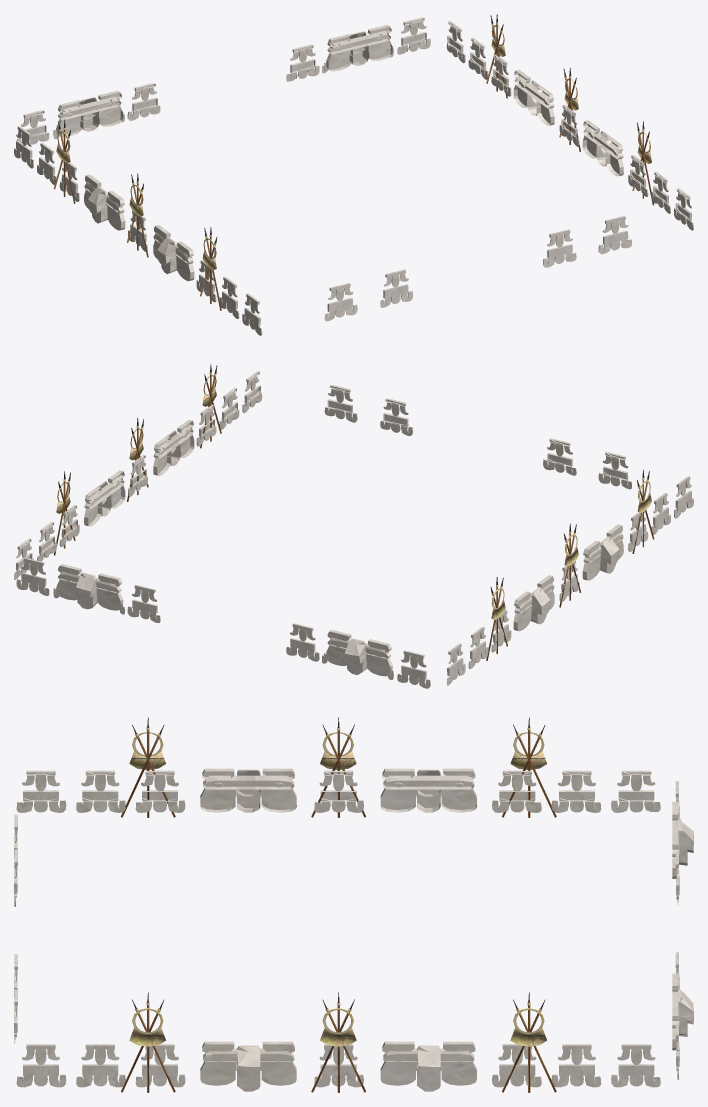
Rendered from ball_dec.dae.
3 renders of one model, top to bottom at view 1: azimuth 30°, elevation 25°; view 2: azimuth 150°, elevation 25°; view 3: azimuth 270°, elevation 25°, orthographic. The views are drawn at different scales.
Visible parts, largest first — view 1: ball_dec; view 2: ball_dec; view 3: ball_dec.
Part boxes in pixels (x1,y1,x2,y2): ball_dec: (14, 14, 693, 335); ball_dec: (14, 364, 693, 688); ball_dec: (14, 717, 693, 1092).
Size of the model in its own units: 32.7 by 32.55 by 5.3.
